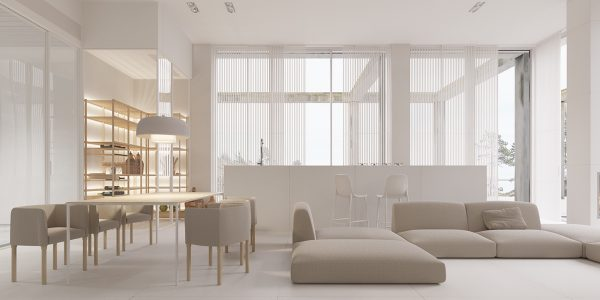chair: (333, 173, 371, 228), (376, 173, 410, 230)
dining table set: (7, 191, 261, 293)
sofa: (288, 196, 596, 285)
